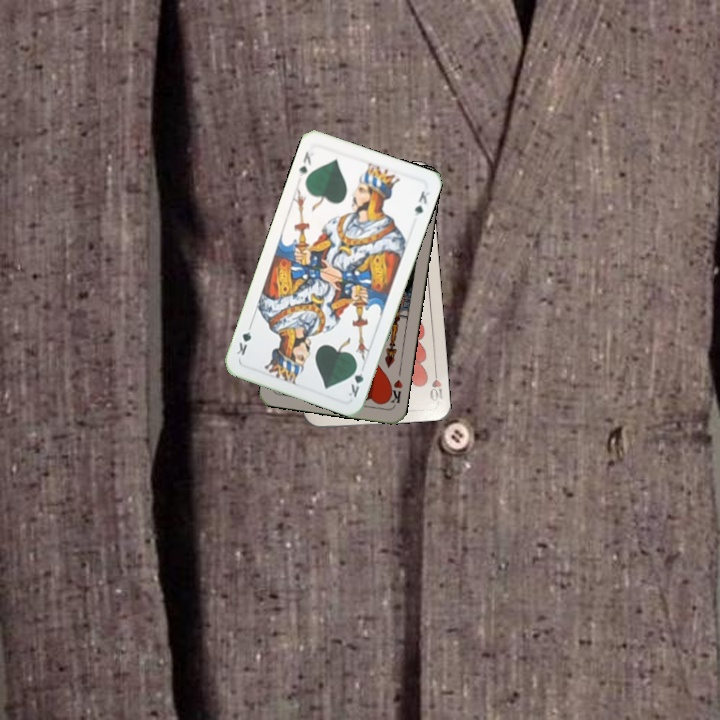GK: (344, 360, 367, 400), (294, 147, 314, 180)
H10: (426, 364, 446, 404)
HK: (383, 375, 405, 408)
